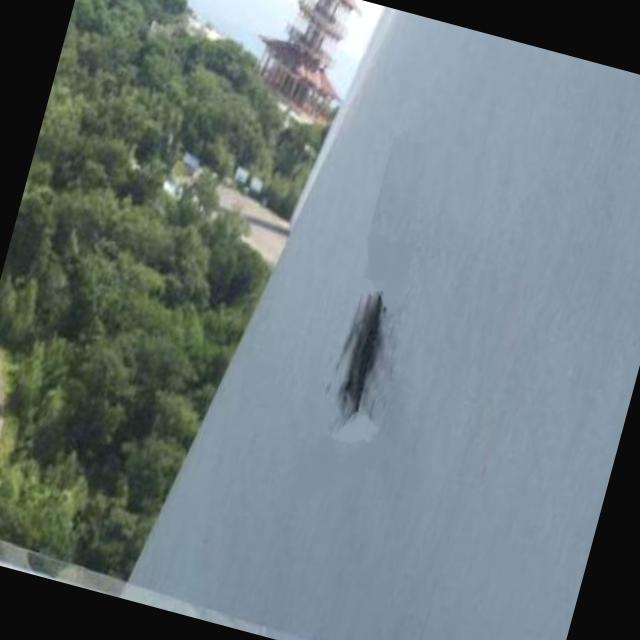crack: (316, 285, 406, 421)
